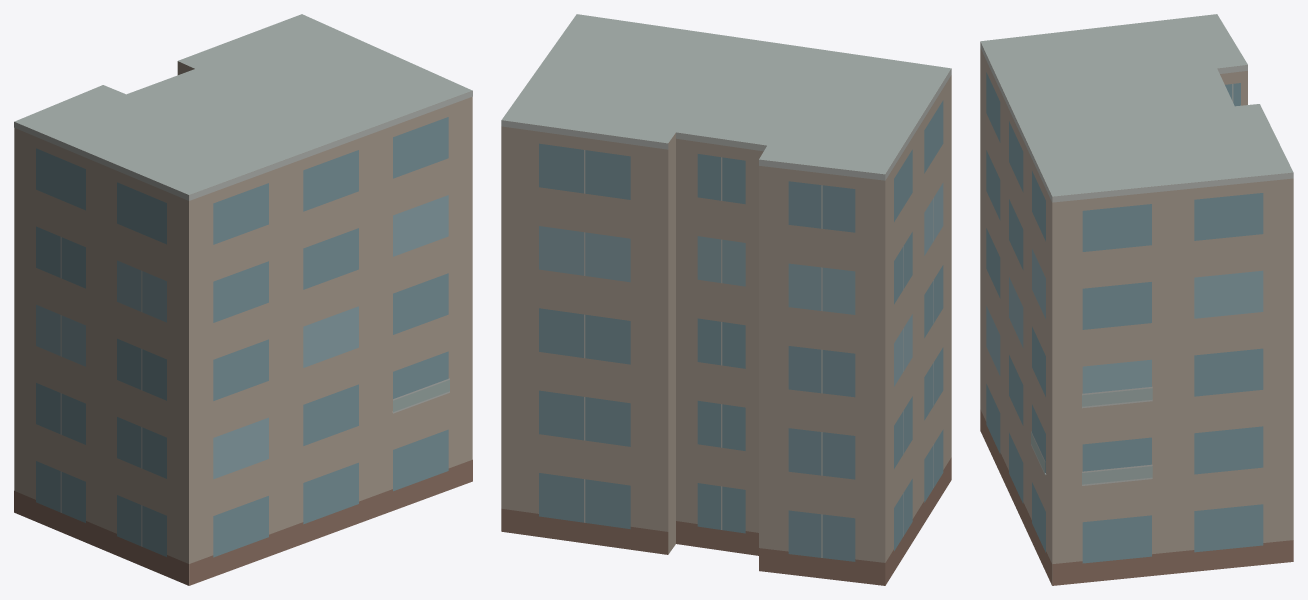
The model's file is survey-upis-32601690.glb.
3 views of the same model, side by side, from view 1: azimuth 30°, elevation 25°; view 2: azimuth 150°, elevation 25°; view 3: azimuth 270°, elevation 25° (orthographic). The views are drawn at different scales.
Visible parts, largest first — view 1: survey-upis-32601690.tmp; view 2: survey-upis-32601690.tmp; view 3: survey-upis-32601690.tmp.
Part boxes in pixels (bbox=[...]): survey-upis-32601690.tmp: bbox=[14, 14, 472, 585]; survey-upis-32601690.tmp: bbox=[501, 14, 951, 585]; survey-upis-32601690.tmp: bbox=[980, 14, 1293, 585].
Bounding box in the file's own units: 16.11 × 16 × 11.68.
